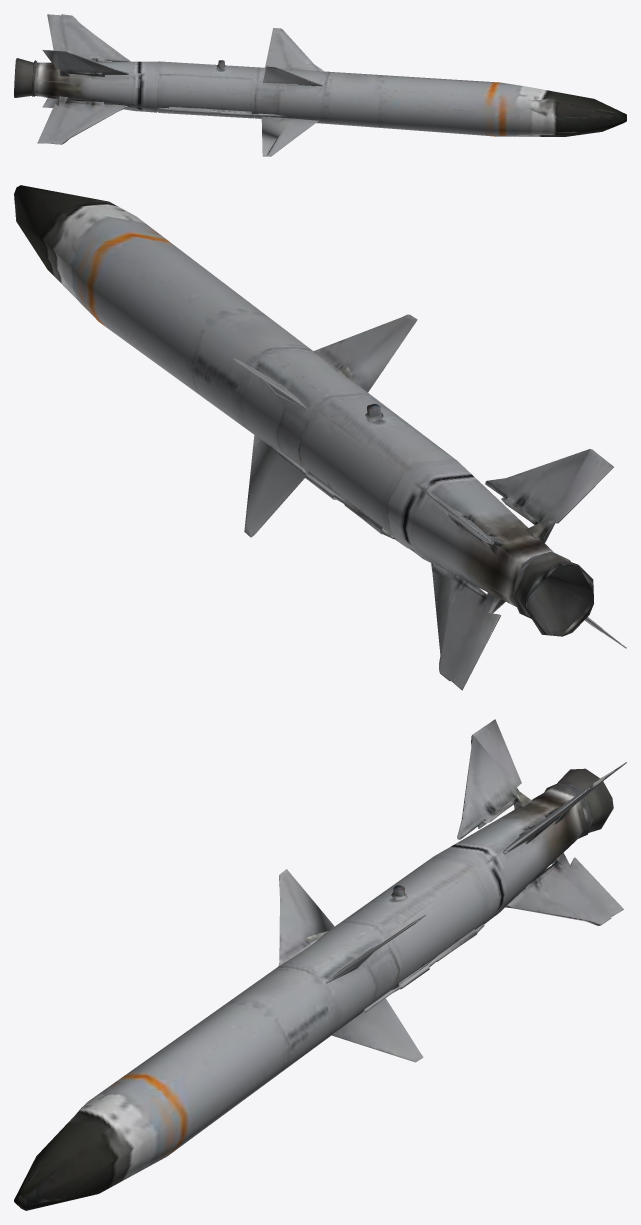
Rendered from ship_missile.glb.
3 renders of one model, top to bottom at view 1: azimuth 30°, elevation 25°; view 2: azimuth 150°, elevation 25°; view 3: azimuth 270°, elevation 25°, orthographic. The views are drawn at different scales.
Parts seen in each view (by area): view 1: f0326d02-ef9b-47de-a1a3-44385f56c429; view 2: f0326d02-ef9b-47de-a1a3-44385f56c429; view 3: f0326d02-ef9b-47de-a1a3-44385f56c429.
Boxes of the visible parts, x1,y1,x2,y2 form: f0326d02-ef9b-47de-a1a3-44385f56c429: [14, 14, 626, 156]; f0326d02-ef9b-47de-a1a3-44385f56c429: [14, 185, 626, 690]; f0326d02-ef9b-47de-a1a3-44385f56c429: [14, 719, 626, 1210].
Size of the model in its own units: 0.999 by 0.2149 by 0.6983.
1 material, 1 textured.
